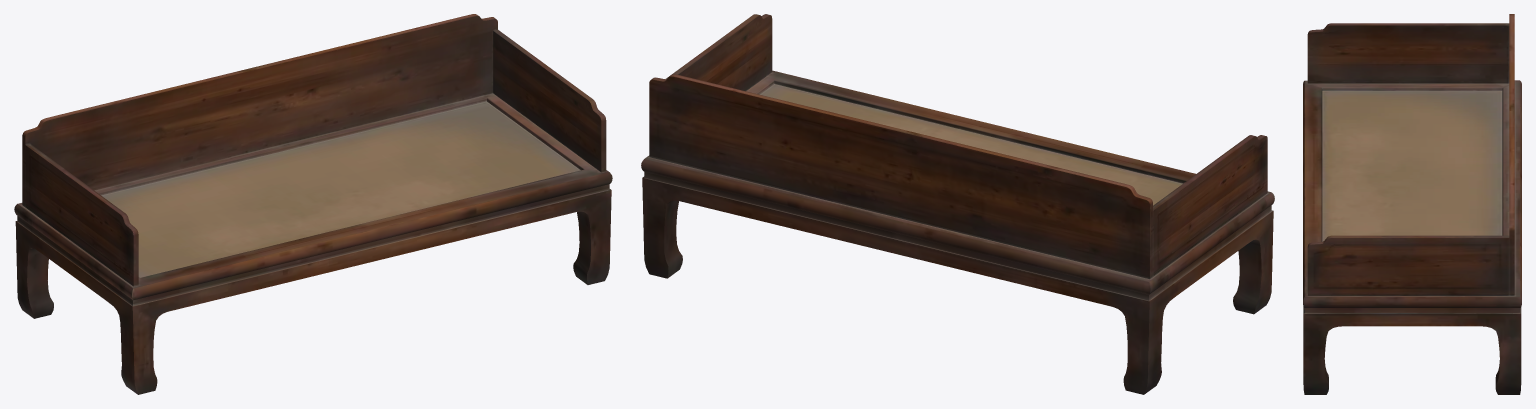
File: chinese-sofa.glb
3 views of the same model, side by side, from view 1: azimuth 30°, elevation 25°; view 2: azimuth 150°, elevation 25°; view 3: azimuth 270°, elevation 25° (orthographic). The views are drawn at different scales.
Parts seen in each view (by area): view 1: chinese_sofa; view 2: chinese_sofa; view 3: chinese_sofa.
Boxes of the visible parts, x1,y1,x2,y2 form: chinese_sofa: [14, 14, 612, 394]; chinese_sofa: [641, 14, 1274, 394]; chinese_sofa: [1303, 14, 1521, 394].
Bounding box in the file's own units: 2.29 × 0.8599 × 0.9687.
Materials: 1 (1 with a texture image).
